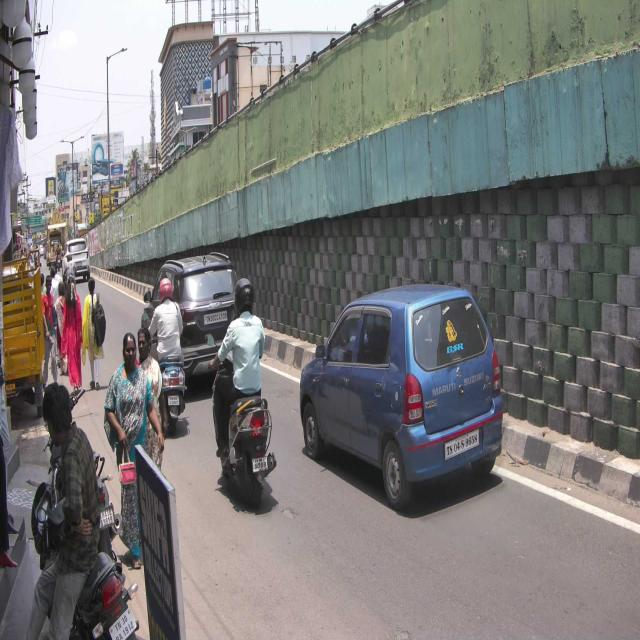single_rider: (205, 277, 276, 505)
